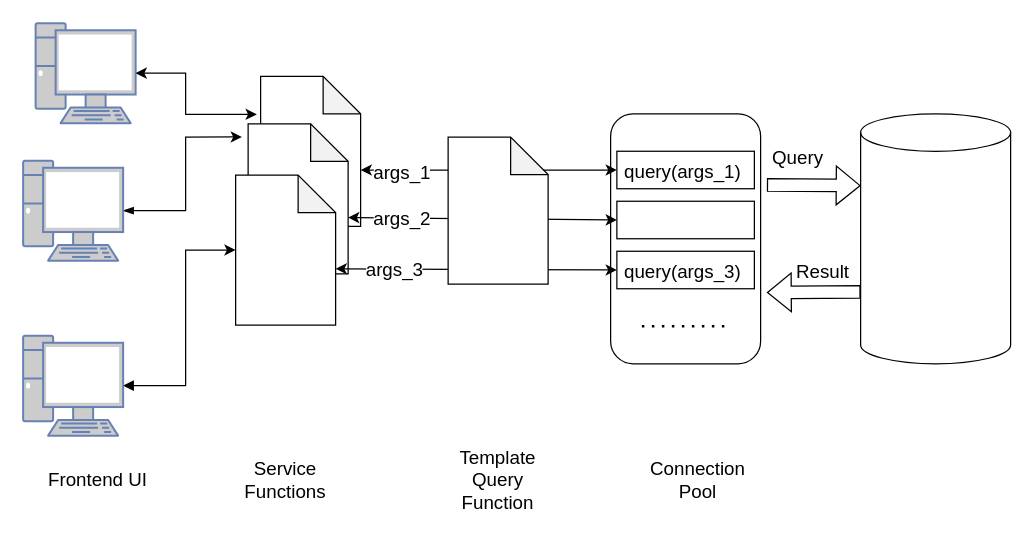
Image size: 1033x534. Some labels were removed from this diagram. Each missing label, with the centre of its shape:
"MySQL Database" goes at pixel 935 238.
"query( args_2 )" goes at pixel 685 219.
